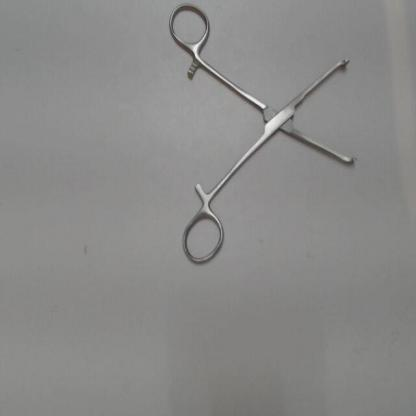Allis Tissue Forceps: (166, 0, 360, 267)
